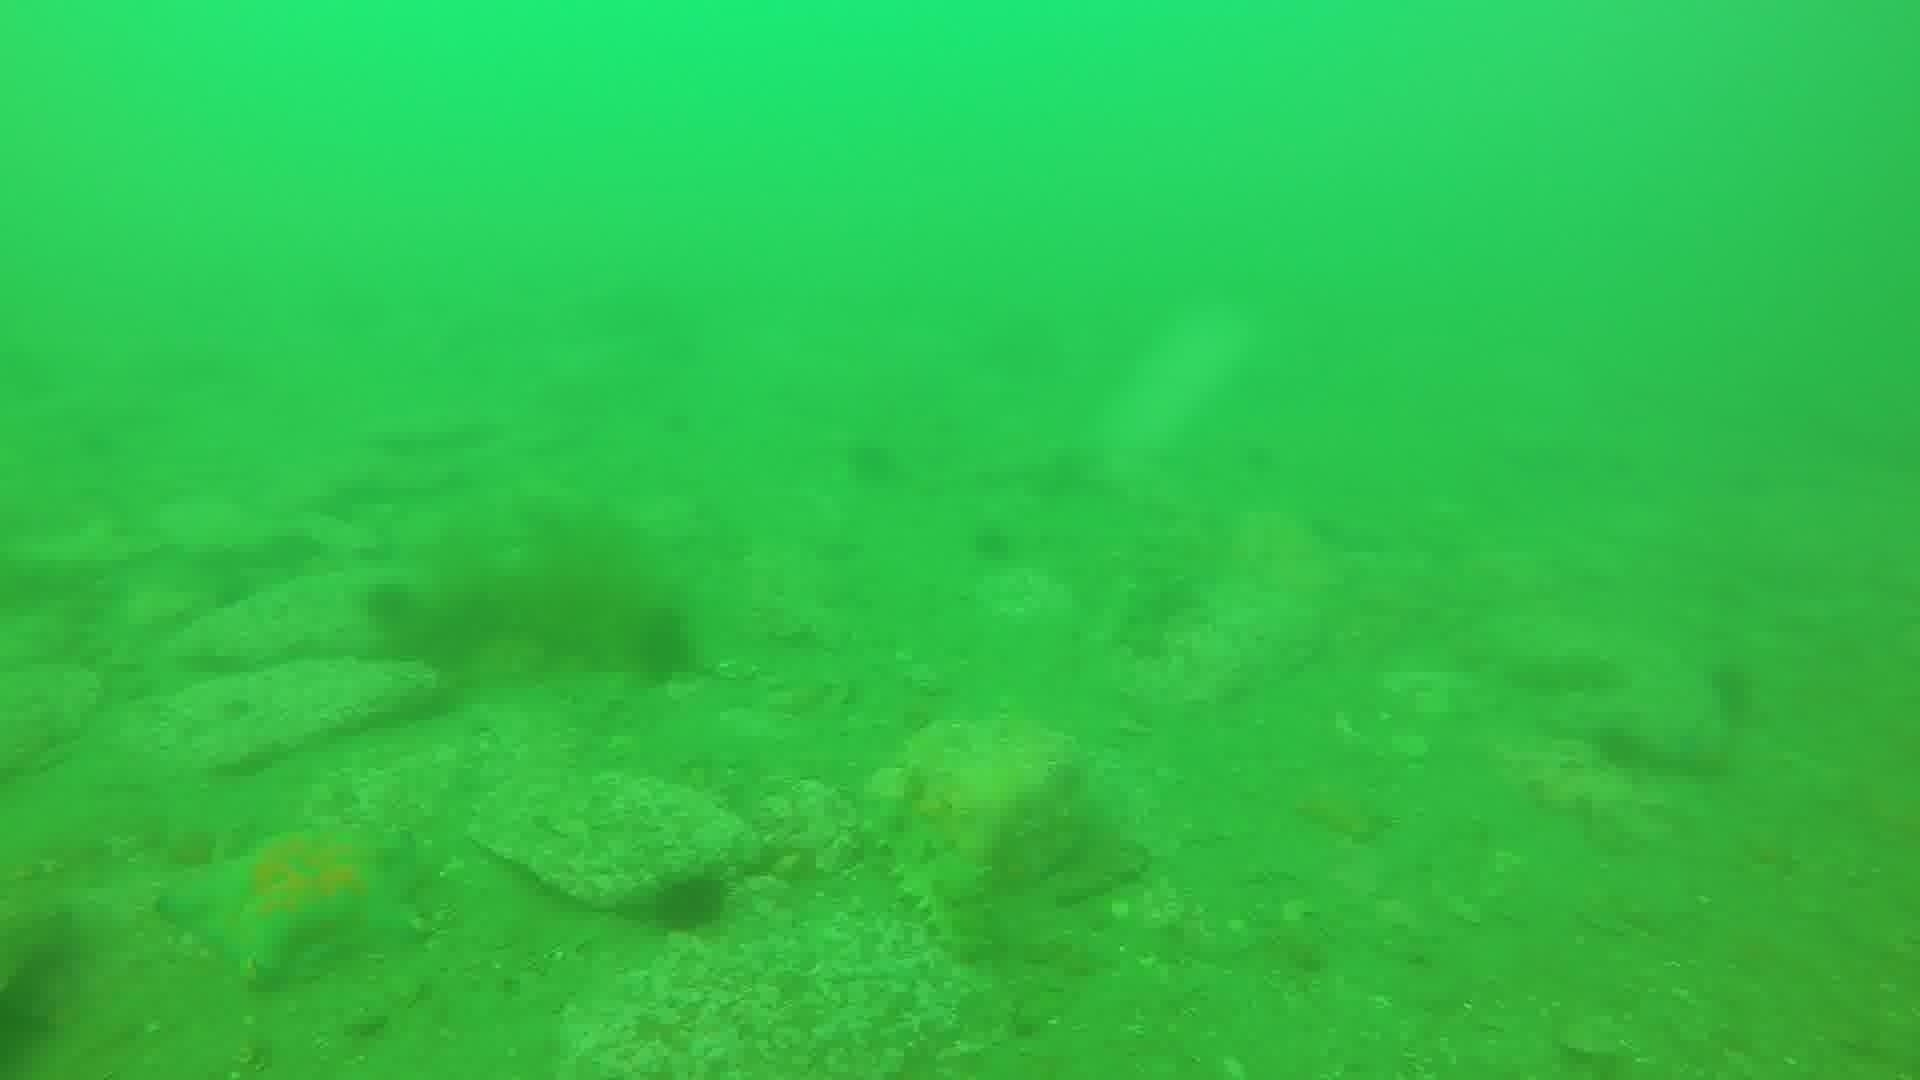echinus: (644, 864, 736, 942), (622, 604, 702, 688), (1702, 655, 1764, 725), (357, 575, 425, 637), (840, 433, 905, 491), (965, 517, 1022, 568)
holothurian: (865, 783, 1001, 967)
starfish: (156, 819, 431, 986)
